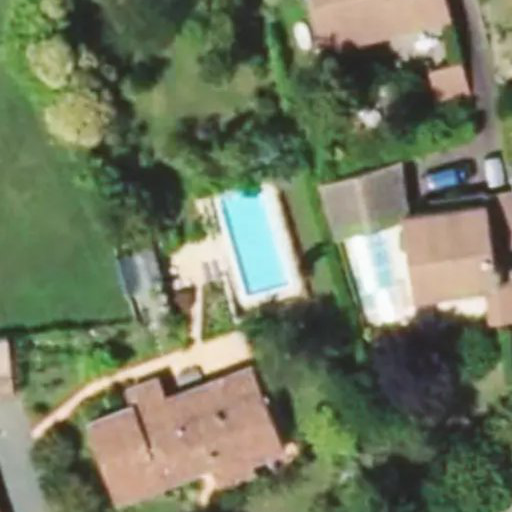pool: (213, 195, 296, 288)
